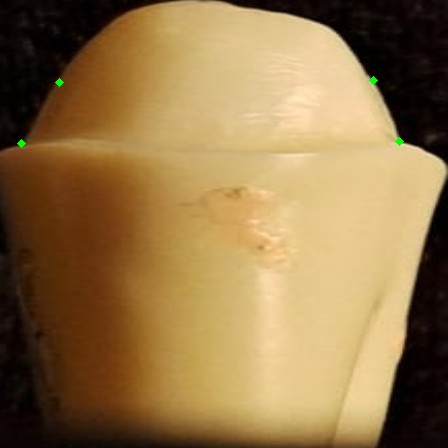coin_1: (399, 141, 419, 161)
coin_2: (373, 80, 393, 100)
coin_3: (21, 143, 41, 163)
coin_4: (59, 82, 79, 102)
